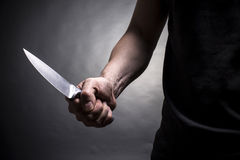knife: (18, 44, 98, 131)
